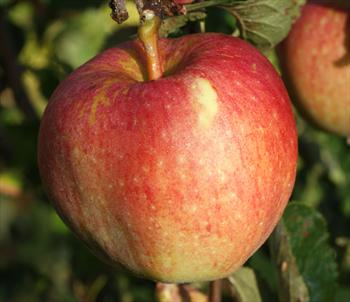apple: (36, 31, 301, 287)
